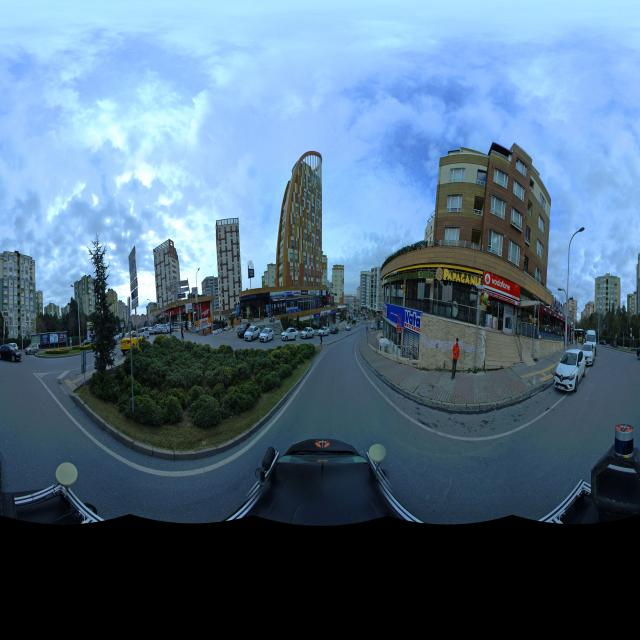SignStore: (435, 263, 484, 288), (484, 271, 520, 301), (404, 308, 421, 333), (239, 292, 268, 302), (552, 295, 563, 316), (270, 292, 285, 299), (320, 309, 331, 317), (200, 318, 209, 327), (383, 303, 388, 318), (389, 311, 397, 317), (317, 291, 328, 295), (328, 292, 334, 298), (286, 291, 293, 295), (311, 290, 316, 295), (302, 291, 308, 295), (309, 291, 310, 294)
